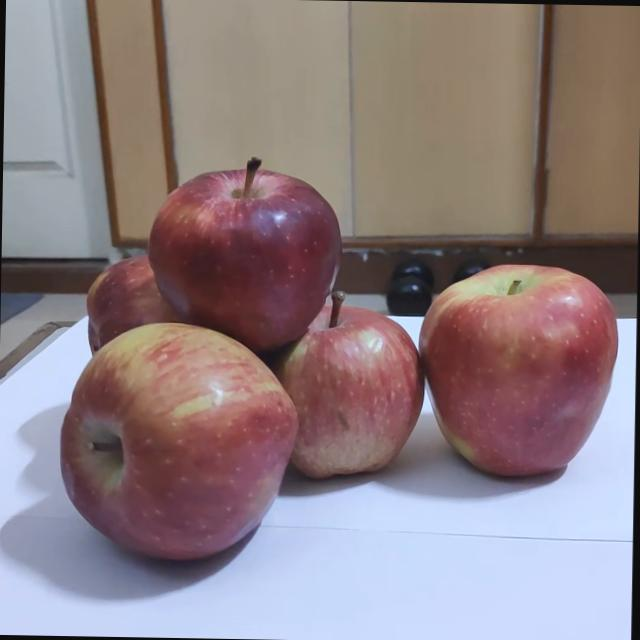apple: (52, 342, 304, 596), (395, 249, 640, 507), (134, 154, 354, 378), (252, 302, 435, 505), (55, 264, 250, 406)
